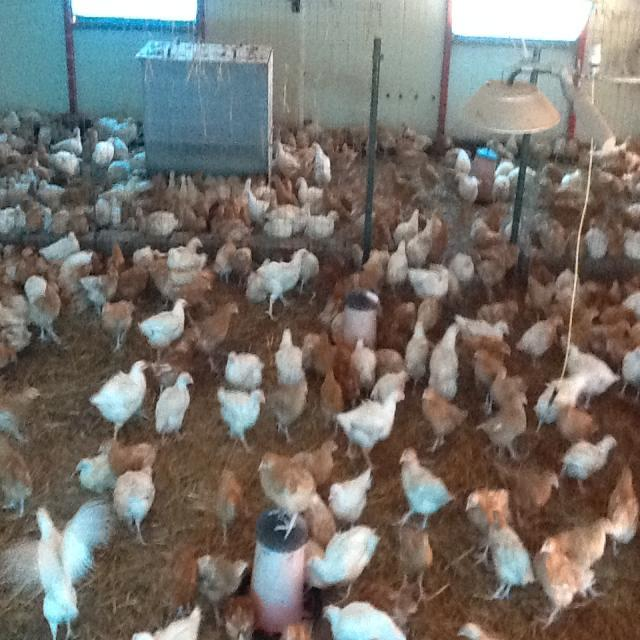poussin: (0, 492, 119, 640), (532, 536, 598, 630), (333, 387, 407, 465), (308, 523, 380, 602), (88, 356, 152, 444), (258, 449, 316, 536), (323, 246, 389, 320), (398, 445, 454, 531), (489, 464, 562, 528), (486, 511, 536, 604), (183, 298, 240, 375), (195, 548, 249, 626), (256, 247, 309, 326), (563, 342, 620, 413), (476, 392, 530, 464), (110, 463, 156, 546), (559, 435, 617, 498), (394, 520, 440, 599), (534, 370, 588, 436), (418, 386, 470, 454), (466, 487, 510, 567), (218, 384, 266, 454), (605, 461, 640, 557), (150, 324, 202, 388), (212, 468, 254, 547), (322, 600, 403, 640), (137, 296, 189, 358), (158, 545, 202, 617), (472, 237, 524, 297), (326, 467, 374, 530), (560, 518, 616, 572), (0, 426, 33, 517), (155, 372, 195, 446), (120, 606, 204, 640), (515, 312, 566, 366), (427, 322, 462, 399), (264, 382, 310, 439), (166, 266, 216, 318), (458, 330, 514, 376), (0, 372, 39, 434), (27, 280, 62, 348), (407, 206, 448, 264), (562, 300, 604, 356), (98, 440, 158, 478), (99, 296, 138, 354), (302, 486, 338, 546), (470, 344, 504, 406), (294, 438, 339, 484), (452, 316, 511, 350), (410, 264, 464, 300), (0, 245, 40, 293), (334, 338, 362, 406), (133, 244, 171, 294), (70, 456, 117, 496), (0, 301, 27, 370), (555, 406, 604, 444), (80, 263, 121, 308), (614, 338, 640, 408), (224, 347, 266, 390), (275, 328, 306, 384), (116, 256, 152, 304), (264, 202, 312, 237), (491, 364, 528, 409), (40, 230, 81, 270), (319, 366, 343, 434), (59, 249, 96, 293), (404, 318, 430, 380), (590, 317, 634, 353), (592, 136, 640, 169), (208, 232, 240, 281), (470, 203, 508, 243), (134, 202, 177, 237), (523, 272, 555, 318), (369, 368, 412, 402), (306, 324, 335, 374), (570, 278, 606, 318), (167, 192, 207, 228), (98, 170, 138, 206), (94, 115, 140, 146), (387, 161, 417, 208), (550, 264, 578, 314), (478, 296, 520, 328), (303, 208, 342, 242), (353, 336, 376, 392), (324, 128, 356, 168), (135, 170, 168, 208), (294, 248, 320, 296), (228, 246, 255, 292), (105, 198, 143, 230), (454, 613, 498, 640), (601, 296, 640, 326), (242, 179, 272, 218), (223, 597, 250, 640), (398, 120, 432, 154), (167, 236, 203, 268), (246, 256, 272, 300), (414, 296, 444, 334), (209, 216, 256, 240), (272, 135, 298, 178), (388, 236, 408, 290), (50, 124, 86, 154), (272, 172, 300, 210), (453, 171, 485, 204), (48, 150, 83, 180), (28, 114, 55, 152), (448, 248, 475, 285), (611, 194, 640, 228), (390, 210, 419, 244), (418, 152, 440, 196), (311, 140, 334, 182), (374, 344, 406, 374), (222, 179, 246, 219), (538, 162, 563, 200), (203, 176, 241, 201), (3, 108, 25, 150), (294, 176, 324, 206), (0, 141, 29, 171), (593, 164, 618, 198), (190, 196, 225, 220), (70, 200, 96, 232), (584, 227, 608, 261), (24, 198, 48, 232), (22, 274, 47, 306), (374, 120, 396, 156), (37, 177, 64, 206), (512, 162, 538, 192), (28, 149, 53, 179), (106, 234, 128, 268), (0, 203, 26, 231), (93, 136, 117, 166), (294, 140, 315, 174), (7, 170, 30, 200), (604, 224, 624, 258), (488, 136, 514, 162), (92, 194, 111, 228), (452, 143, 473, 173), (50, 205, 73, 232), (562, 168, 586, 193), (183, 172, 206, 198), (619, 164, 640, 192), (623, 288, 640, 322), (568, 228, 586, 260), (492, 173, 513, 200), (564, 132, 583, 160), (164, 168, 180, 201), (622, 229, 640, 258), (23, 164, 39, 192), (552, 133, 569, 159), (494, 161, 514, 180), (504, 135, 520, 156), (178, 172, 188, 202), (610, 279, 622, 301)
